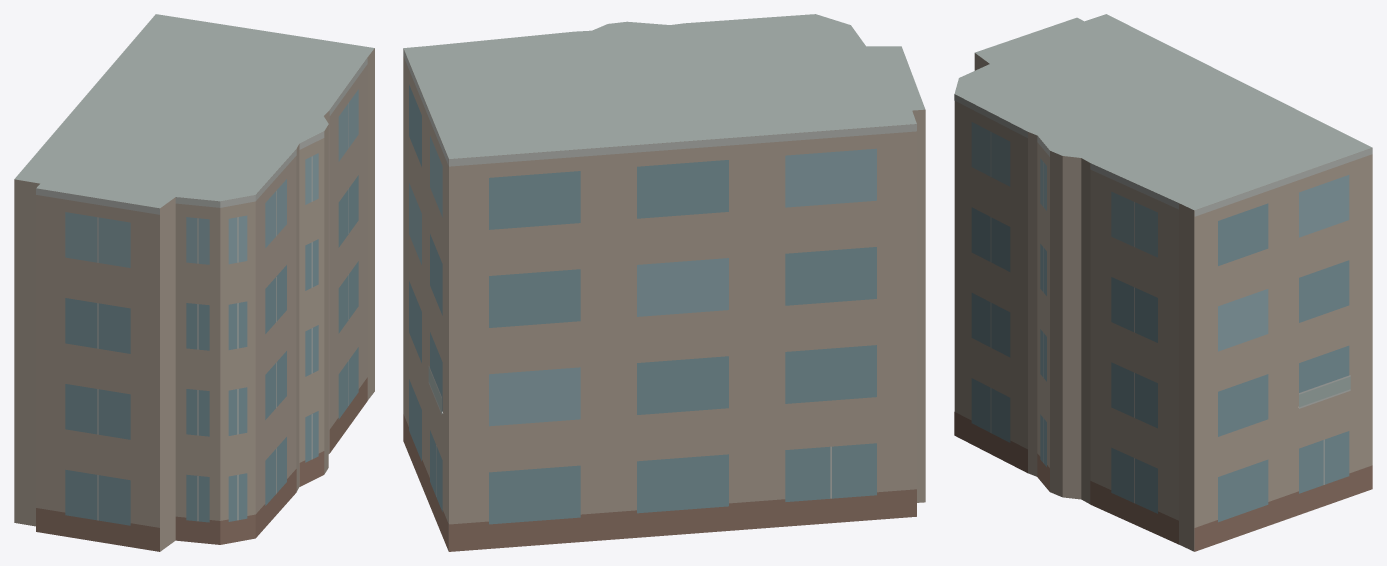
Rendered from survey-upis-32631960.glb.
The picture shows the model from 3 angles, left to right: view 1: azimuth 30°, elevation 25°; view 2: azimuth 150°, elevation 25°; view 3: azimuth 270°, elevation 25°; orthographic projection. The views are drawn at different scales.
Visible parts, largest first — view 1: survey-upis-32631960.tmp; view 2: survey-upis-32631960.tmp; view 3: survey-upis-32631960.tmp.
Boxes of the visible parts, bbox=[...] form: survey-upis-32631960.tmp: bbox=[14, 14, 374, 551]; survey-upis-32631960.tmp: bbox=[403, 14, 925, 551]; survey-upis-32631960.tmp: bbox=[954, 14, 1372, 551].
Bounding box in the file's own units: 15.8 × 12.8 × 14.21.
